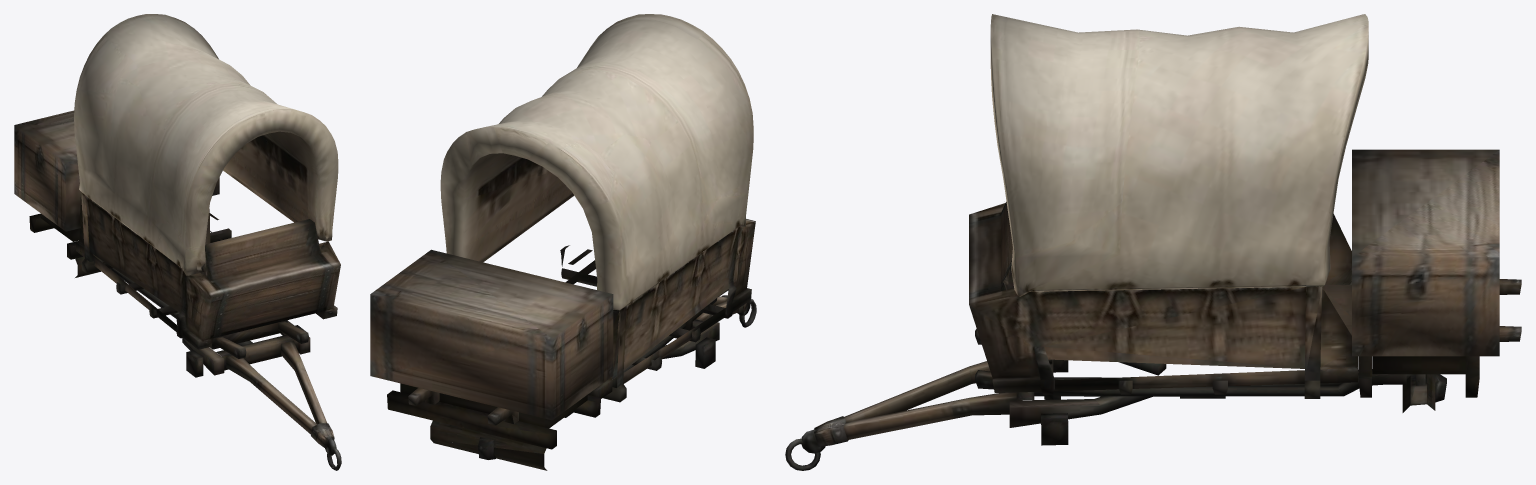
File: chuck.glb
The picture shows the model from 3 angles, left to right: view 1: azimuth 30°, elevation 25°; view 2: azimuth 150°, elevation 25°; view 3: azimuth 270°, elevation 25°; orthographic projection. The views are drawn at different scales.
Parts seen in each view (by area): view 1: body, tongue; view 2: body, tongue; view 3: body, tongue.
Boxes of the visible parts, x1,y1,x2,y2 form: body: [14, 14, 340, 377]; tongue: [226, 341, 341, 470]; body: [370, 14, 755, 470]; tongue: [696, 295, 756, 327]; body: [969, 14, 1521, 445]; tongue: [785, 361, 1016, 470].
Bounding box in the file's own units: 1.55 × 2.99 × 4.48.
Materials: 1 (1 with a texture image).
